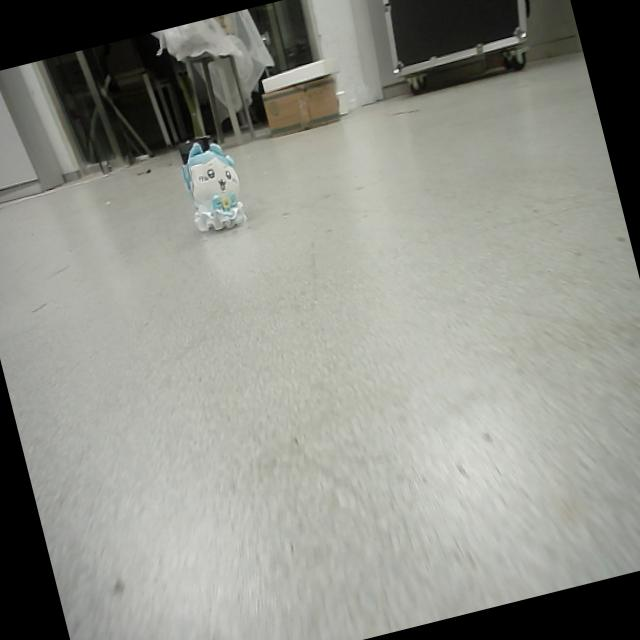xiaoba: (172, 129, 253, 238)
